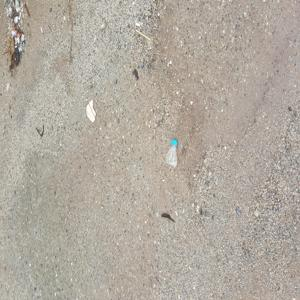plastic: (160, 132, 186, 175)
